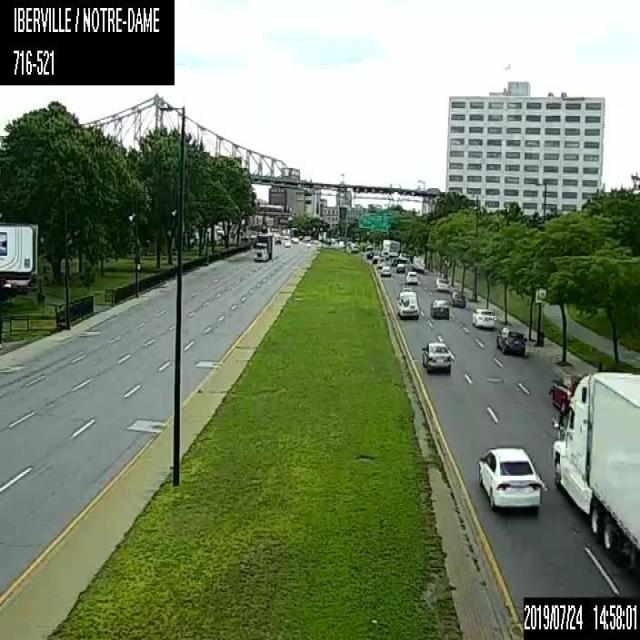vehicle: (552, 371, 639, 572), (476, 445, 543, 511), (552, 372, 584, 412), (420, 339, 452, 372), (496, 327, 524, 353), (252, 232, 272, 260), (396, 293, 418, 317), (471, 307, 494, 328), (429, 298, 450, 318), (382, 238, 399, 256), (450, 290, 466, 306), (435, 276, 449, 291), (412, 255, 424, 272), (398, 286, 416, 296), (405, 271, 417, 283), (380, 265, 390, 276), (376, 256, 386, 266), (398, 252, 407, 261), (396, 262, 404, 272), (365, 250, 374, 258), (391, 256, 398, 265), (372, 254, 379, 262)
